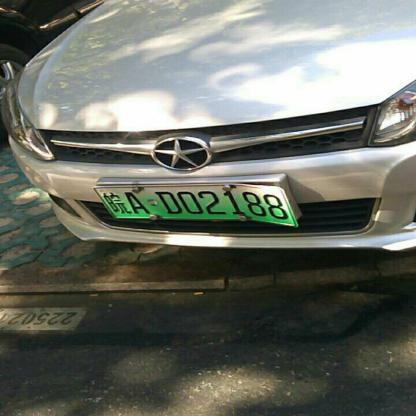lp: (93, 188, 298, 228)
